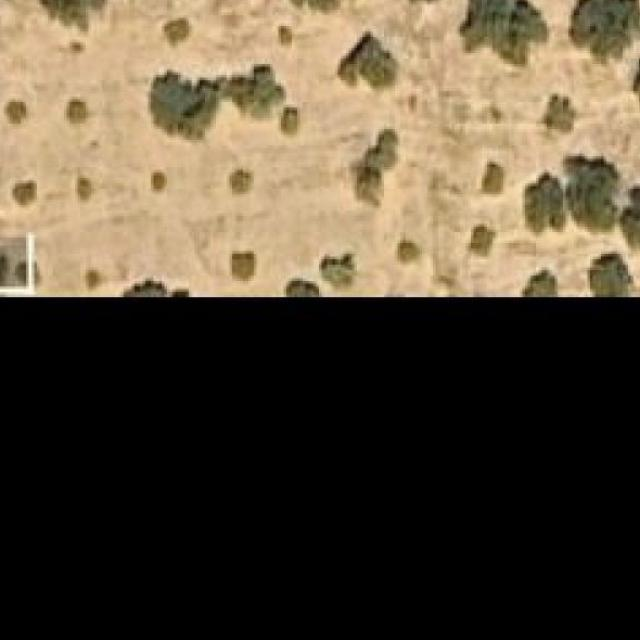Tree: (460, 0, 547, 71), (146, 66, 222, 140), (568, 151, 624, 235), (352, 129, 401, 208), (571, 0, 639, 56), (338, 29, 392, 87), (227, 62, 281, 119), (536, 94, 588, 141), (525, 178, 566, 235), (39, 0, 108, 31), (590, 252, 631, 295), (619, 178, 640, 257), (317, 250, 353, 292), (152, 15, 191, 51), (229, 0, 359, 10), (625, 17, 640, 102), (468, 214, 494, 257), (227, 165, 259, 197), (388, 237, 422, 267), (522, 270, 558, 295), (229, 252, 256, 284), (278, 107, 305, 138), (64, 100, 94, 127), (3, 100, 28, 127), (482, 162, 503, 194), (283, 279, 324, 295), (75, 178, 96, 203), (12, 183, 34, 205), (86, 268, 107, 290), (151, 170, 167, 192)
